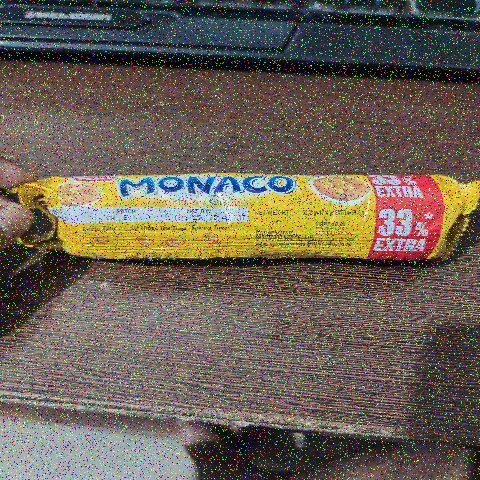monaco: (20, 129, 480, 306)
